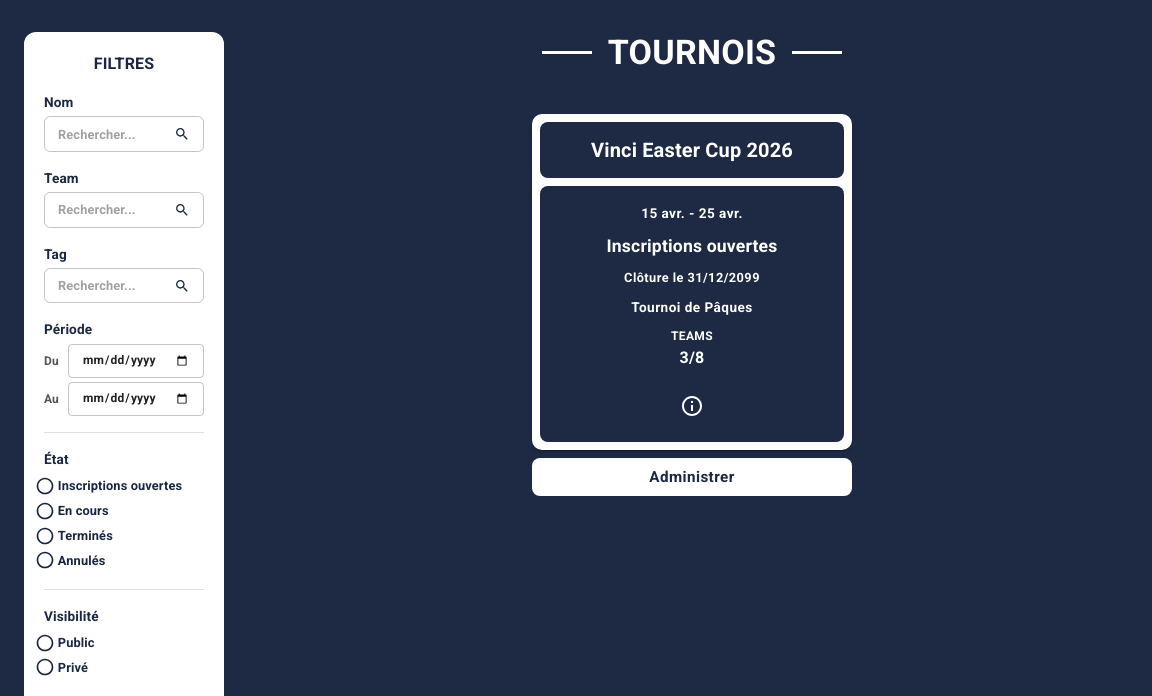
Test case: TournamentsPage › clique sur Administrer navigue vers TournamentAdminPage
Check: the heading "Vinci Easter Cup 2026" is shown, box [591,138,793,162]
Click the button "Administrer".
click(692, 477)  # box [532,458,852,496]
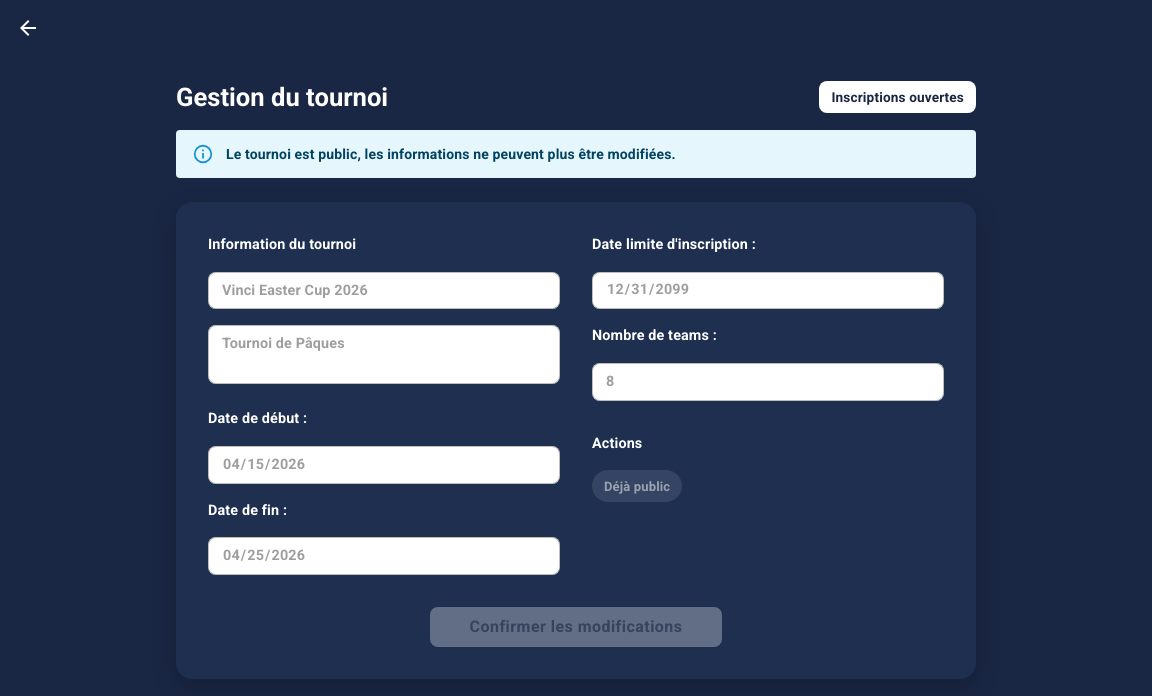
Check: the heading "Gestion du tournoi" is shown, box [176,80,388,114]
